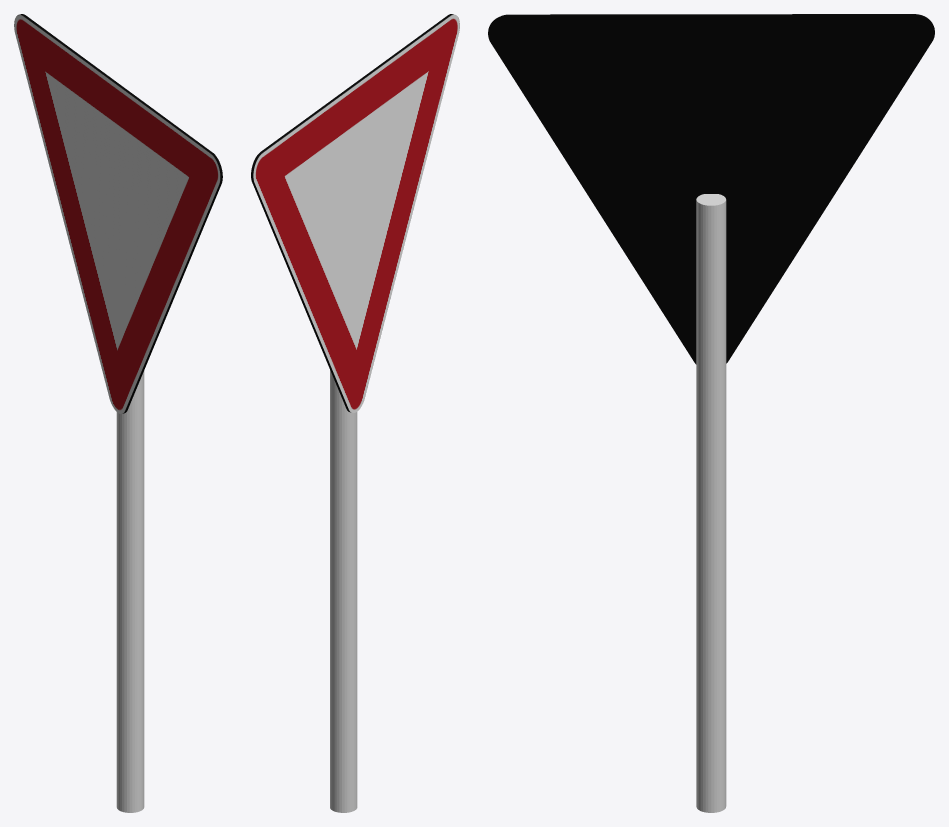
Rendered from yield_sign.dae.
The picture shows the model from 3 angles, left to right: view 1: azimuth 30°, elevation 25°; view 2: azimuth 150°, elevation 25°; view 3: azimuth 270°, elevation 25°; orthographic projection. The views are drawn at different scales.
Parts seen in each view (by area): view 1: path4612, Cylinder; view 2: path4612, Cylinder; view 3: path4612, Cylinder.
Part boxes in pixels (box(x1,y1,x2,y2)): path4612: box(14, 14, 222, 413); Cylinder: box(116, 371, 144, 812); path4612: box(251, 14, 459, 412); Cylinder: box(330, 370, 357, 812); path4612: box(488, 14, 934, 364); Cylinder: box(696, 194, 726, 812).
Bounding box in the file's own units: 0.0105 × 0.1501 × 0.2912.
Materials: 3 (2 with a texture image).
